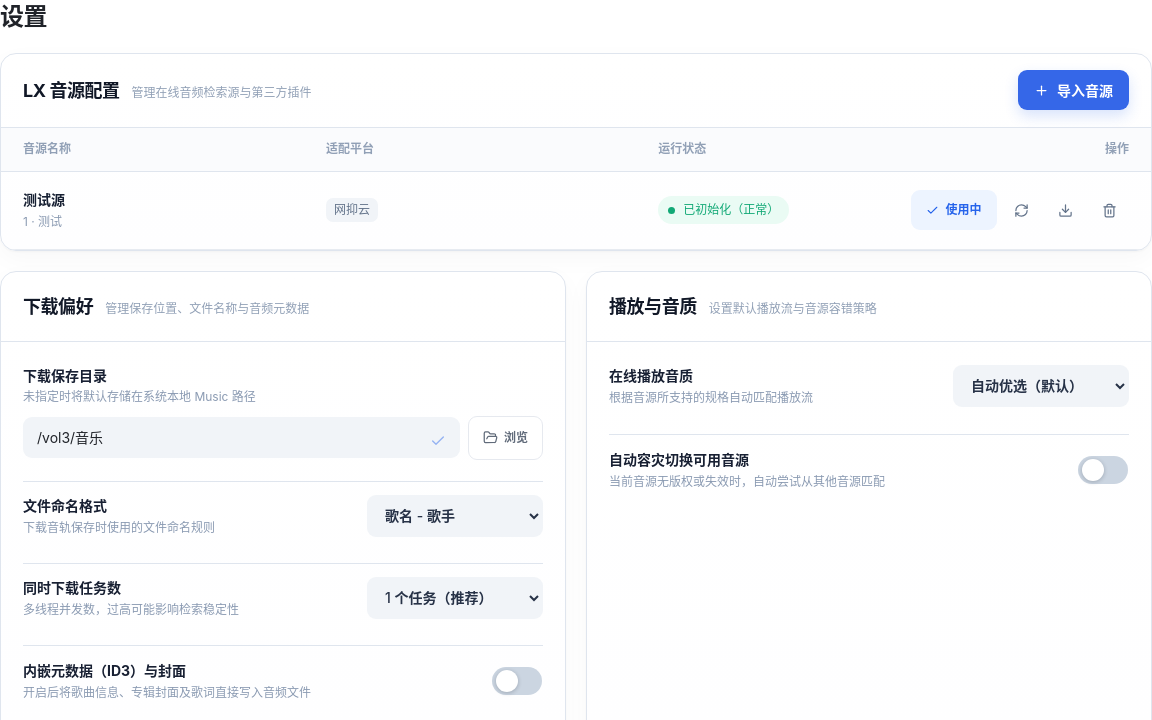
Test case: v5 Settings 字段自动保存界面 › 真实blur提交与浏览选择走同一自动保存队列，不预先用旧授权快照拦截NAS路径
Expected: the dropdown labelled "文件命名格式" is shown, x1=367 y1=495 x2=543 y2=537
Step 1. Replace the text in the field labelled "下载保存目录" with "/vol3/新目录" → (242, 438), box x1=23 y1=417 x2=460 y2=458
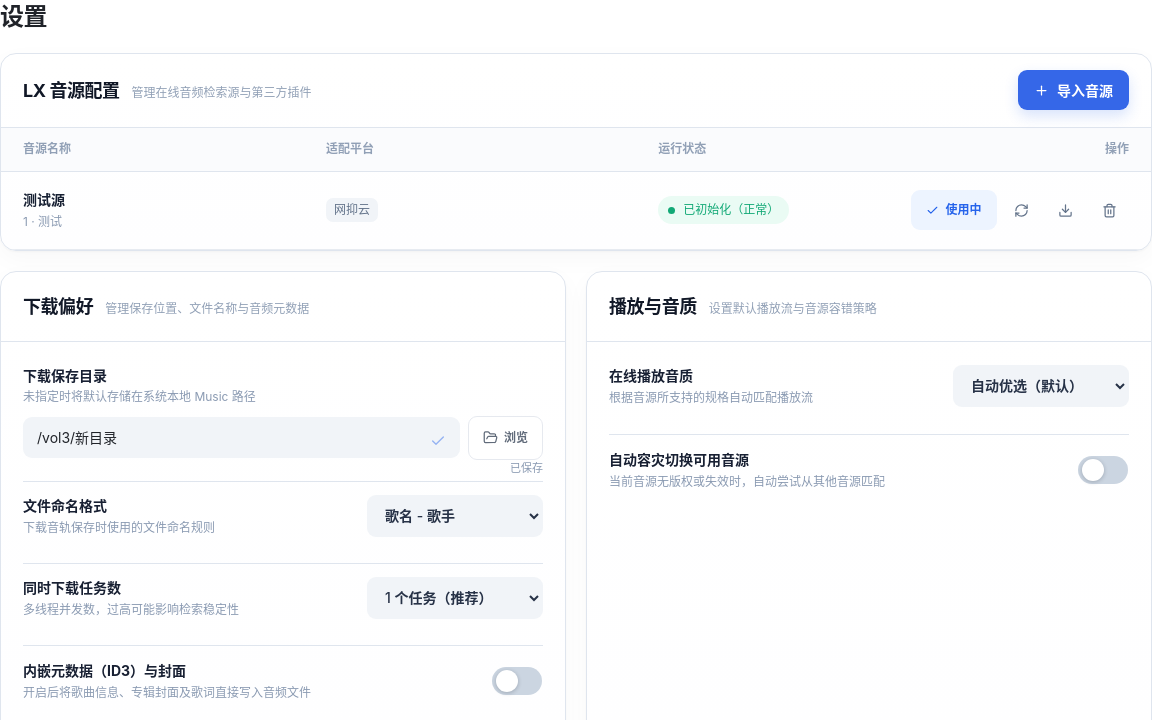
Step 2. Click the button "浏览" → click(506, 438), box x1=468 y1=416 x2=543 y2=460
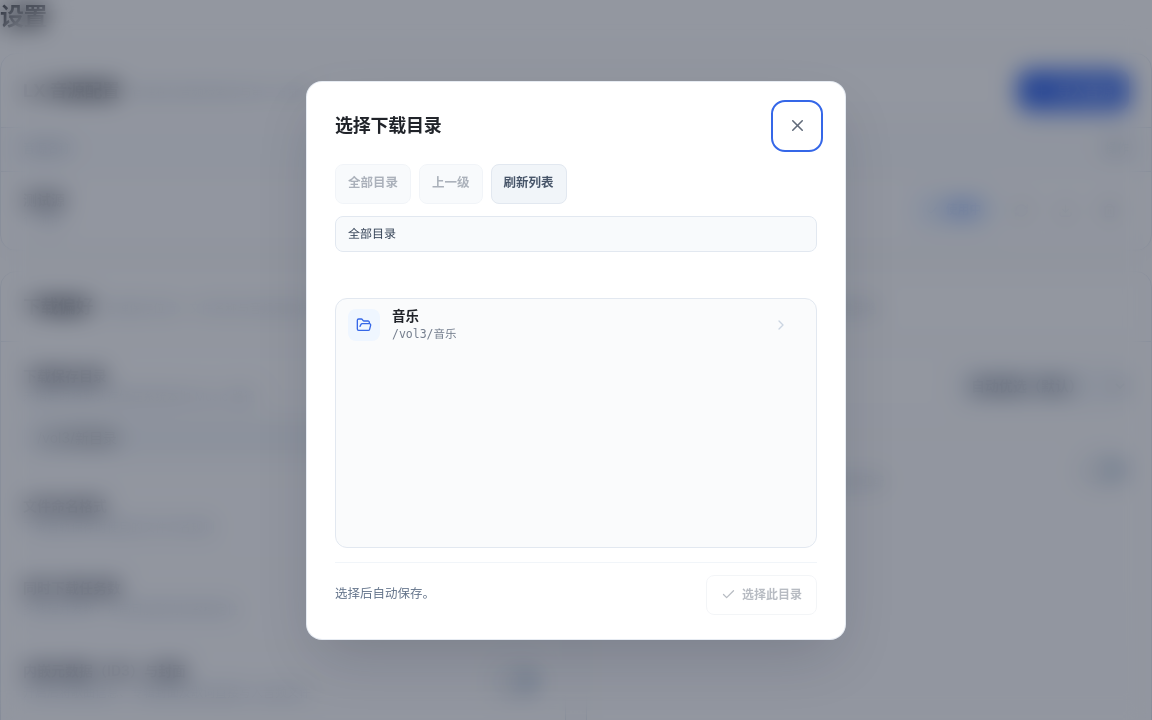
Step 3. Click the button with aria-label "打开目录 /vol3/音乐" → click(364, 324), box x1=336 y1=298 x2=801 y2=350
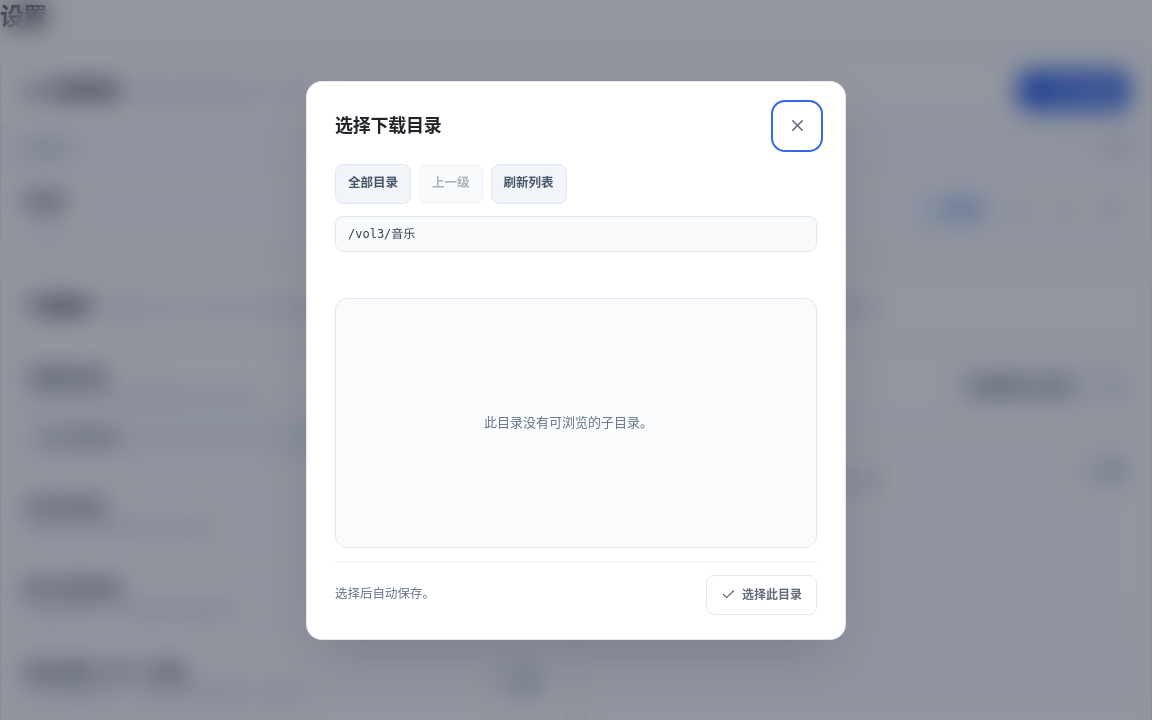
Expected: the button "选择此目录" is enabled
Step 4. Click the button "选择此目录" → click(762, 594), box x1=706 y1=574 x2=817 y2=614
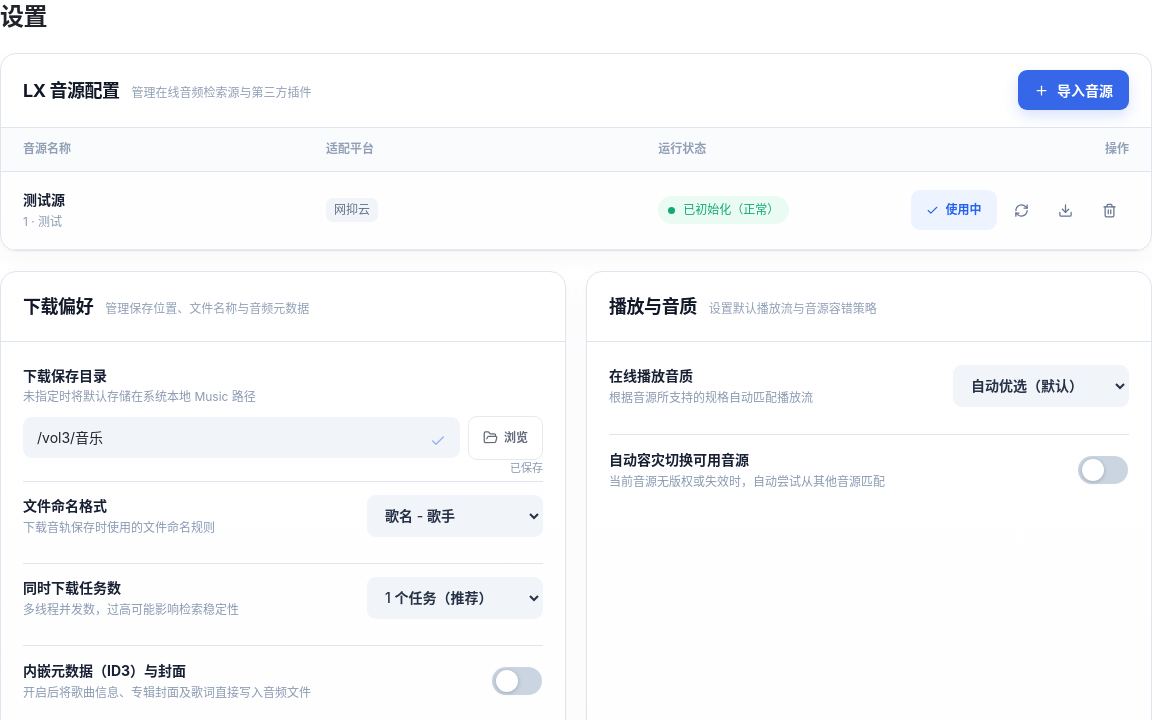
Expected: the dialog is gone
